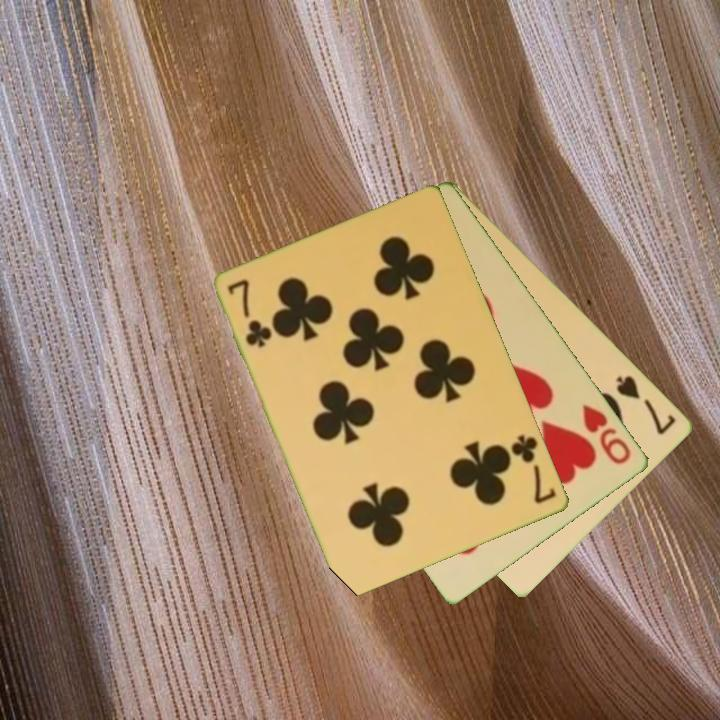7c: (508, 431, 559, 507), (224, 275, 275, 351)
7s: (613, 371, 679, 438)
9h: (579, 400, 635, 468)
